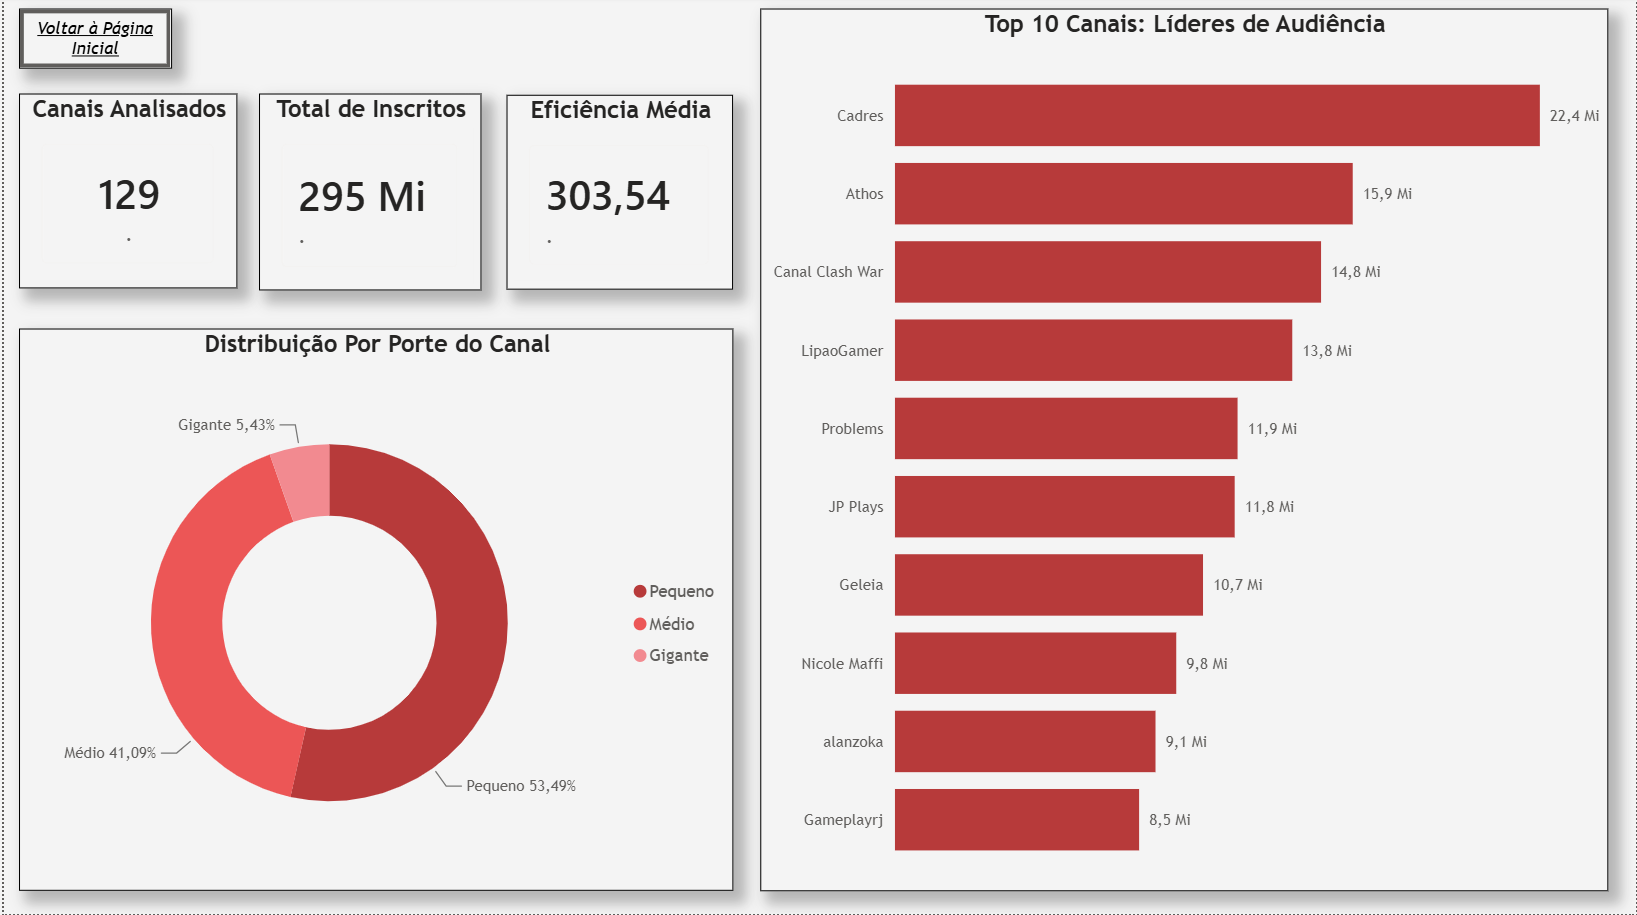

The page's visual inventory and layout, read from the dashboard file:
{"tool":"powerbi","page":{"name":"Visão Executiva","canvas":[1280,720],"ordinal":1},"visuals":[{"type":"cardVisual","title":"Canais Analisados","fields":{"Data":["_Medidas.Total Canais"]},"box":[11.6,76.8,171.4,152.5],"z":0},{"type":"cardVisual","title":"Total de Inscritos","fields":{"Data":["_Medidas.Total Inscritos"]},"box":[200,76.7,174.4,154.7],"z":1000},{"type":"cardVisual","title":"Eficiência Média","fields":{"Data":["_Medidas.Media Eficiencia"]},"box":[394.3,77.8,177.7,152.5],"z":2000},{"type":"donutChart","title":"Distribuição Por Porte do Canal","fields":{"Category":["top_youtube_brasil_limpo.Porte_do_Canal"],"Y":["_Medidas.Total Canais"]},"box":[11.6,260.7,560.4,440.5],"z":3000},{"type":"barChart","title":"Top 10 Canais: Líderes de Audiência","fields":{"Category":["top_youtube_brasil_limpo.Channel Name"],"Y":["Sum(top_youtube_brasil_limpo.Subscribers)"]},"box":[593,9.5,664.5,691.8],"z":4000},{"type":"actionButton","box":[11.6,9.5,119.9,47.3],"z":5000}]}

Visuals, with their boxes in screenshot pixels (x1, y1, x2, y2), scaled from the page's 1280x720 canvas onto the 1637x915 screenshot:
"Canais Analisados" cardVisual: {"x1": 15, "y1": 98, "x2": 234, "y2": 291}
"Total de Inscritos" cardVisual: {"x1": 256, "y1": 97, "x2": 479, "y2": 294}
"Eficiência Média" cardVisual: {"x1": 504, "y1": 99, "x2": 732, "y2": 293}
"Distribuição Por Porte do Canal" donutChart: {"x1": 15, "y1": 331, "x2": 732, "y2": 891}
"Top 10 Canais: Líderes de Audiência" barChart: {"x1": 758, "y1": 12, "x2": 1608, "y2": 891}
actionButton: {"x1": 15, "y1": 12, "x2": 168, "y2": 72}
